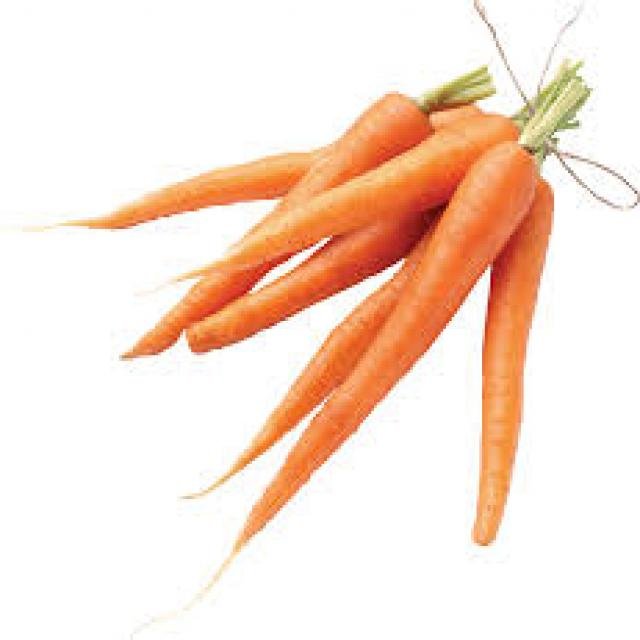organic waste: (200, 59, 584, 575), (116, 65, 494, 358), (180, 203, 441, 496), (175, 111, 518, 279), (22, 100, 485, 223), (468, 176, 552, 543)
